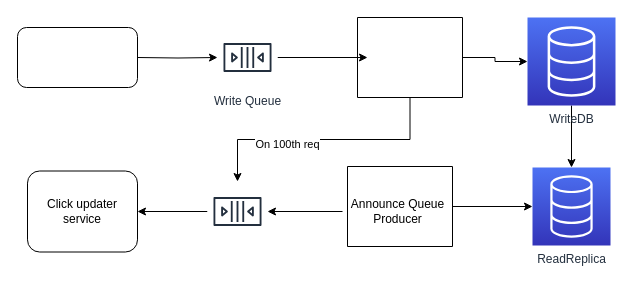
The diagram is 633 pixels wide and 284 high, and some of its shapes have lost their labels. Each missing label, with the box of its shape:
Announce queue: (206, 180, 268, 242)
Click listener service: (16, 26, 138, 88)
Write Queue Consumer: (356, 16, 462, 98)
